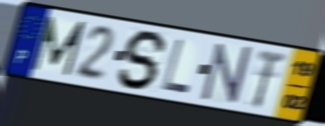2: (72, 24, 117, 83)
L: (159, 37, 191, 96)
M: (29, 14, 88, 78)
N: (199, 42, 254, 106)
S: (116, 28, 170, 92)
T: (250, 48, 289, 110)
